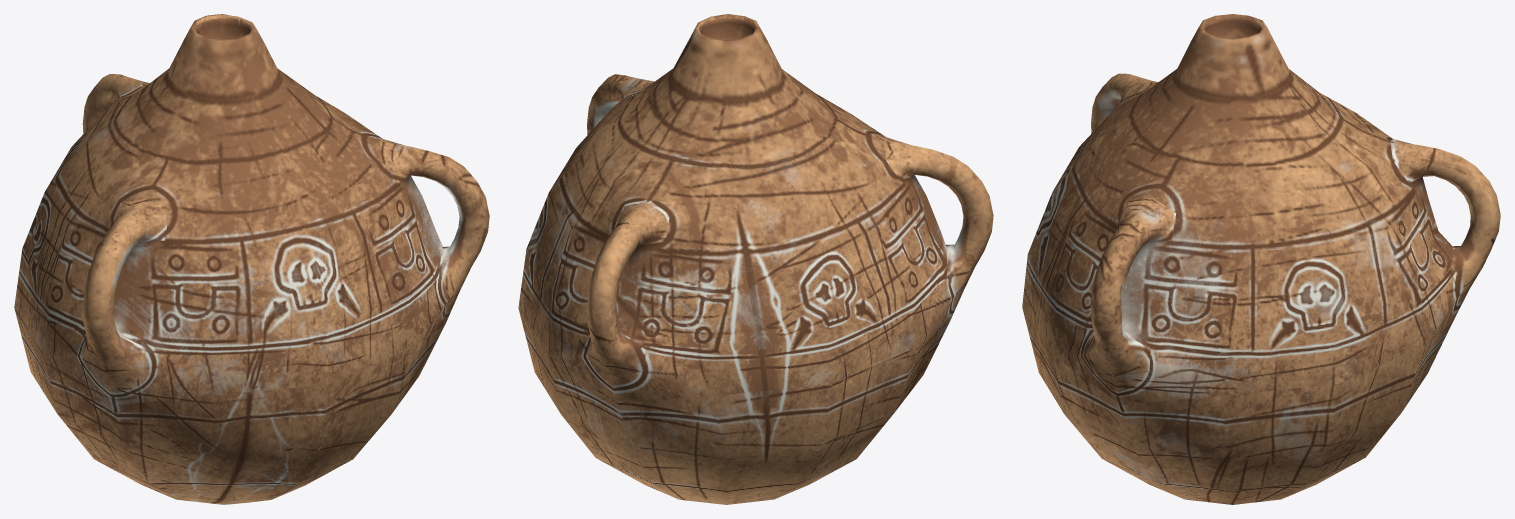
Rendered from LI_TEMP_Jar.FBX.
The picture shows the model from 3 angles, left to right: view 1: azimuth 30°, elevation 25°; view 2: azimuth 150°, elevation 25°; view 3: azimuth 270°, elevation 25°; orthographic projection.
Parts seen in each view (by area): view 1: LI_TEMP_JarJar_LOD0; view 2: LI_TEMP_JarJar_LOD0; view 3: LI_TEMP_JarJar_LOD0.
Part boxes in pixels (x1,y1,x2,y2): LI_TEMP_JarJar_LOD0: (14, 14, 489, 504); LI_TEMP_JarJar_LOD0: (518, 14, 993, 504); LI_TEMP_JarJar_LOD0: (1022, 14, 1500, 504).
Size of what is drawn, in the model's own units: 43.29 by 47.34 by 44.84.
Materials: 1 (1 with a texture image).
